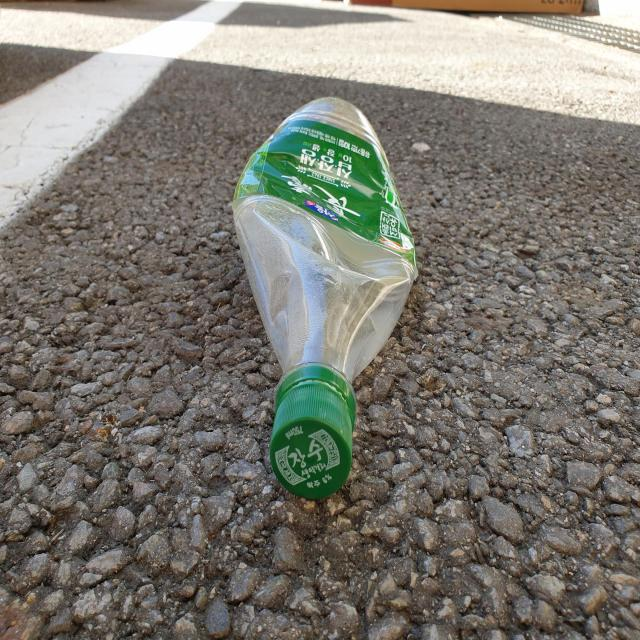plastic: (233, 96, 418, 499)
